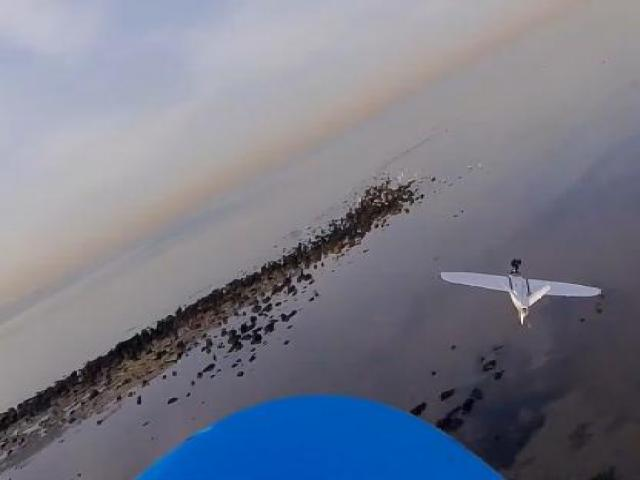uav: (434, 263, 606, 325)
